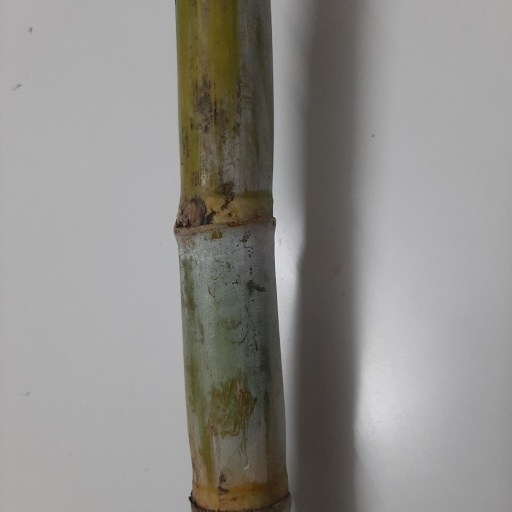Bud: (183, 198, 205, 225)
